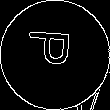P_E: (29, 35, 81, 75)
